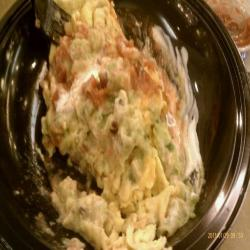omelette: (30, 16, 210, 241)
